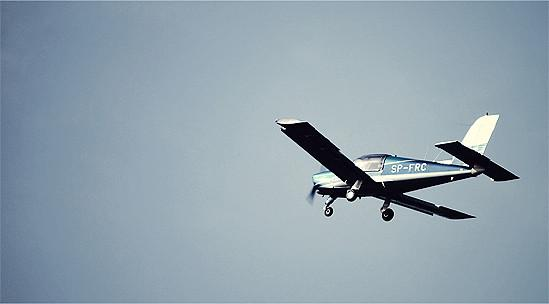plane: (275, 112, 521, 223)
